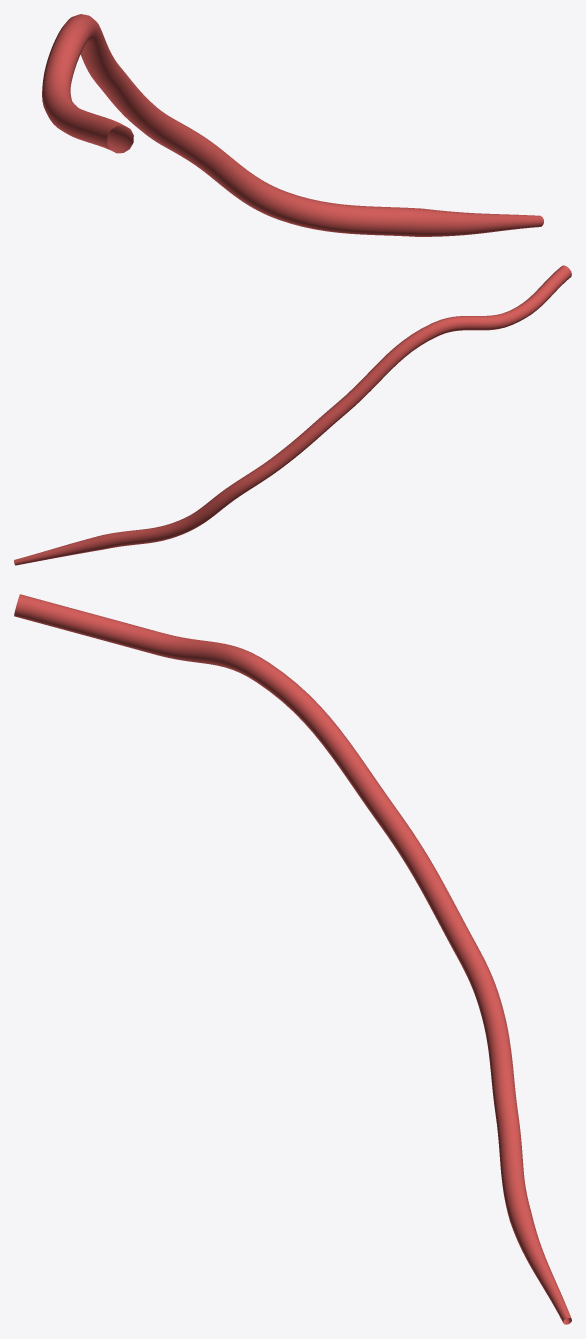
3 views of the same model, one above another, from view 1: azimuth 30°, elevation 25°; view 2: azimuth 150°, elevation 25°; view 3: azimuth 270°, elevation 25° (orthographic). The views are drawn at different scales.
Visible parts, largest first — view 1: 右侧下唇动脉; view 2: 右侧下唇动脉; view 3: 右侧下唇动脉.
Part boxes in pixels (<box>): 右侧下唇动脉: <box>42,14,543,236</box>; 右侧下唇动脉: <box>14,265,571,565</box>; 右侧下唇动脉: <box>14,594,571,1324</box>.
Bounding box in the file's own units: 0.0454 × 0.03 × 0.0351.
